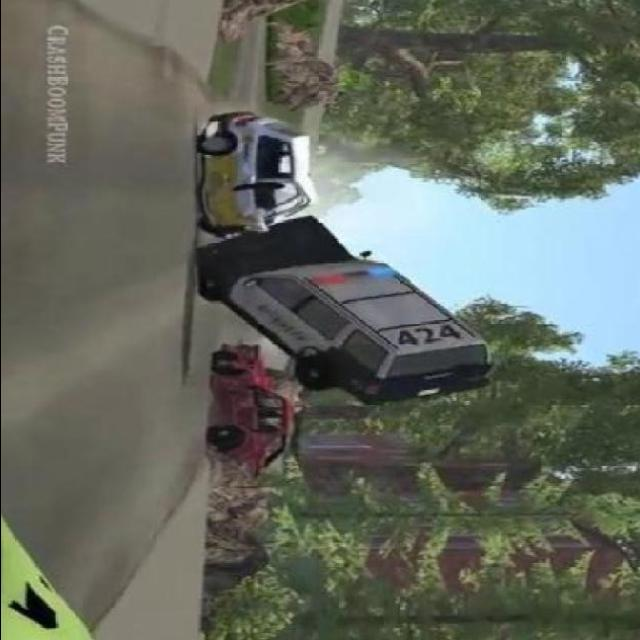accident: (196, 142, 304, 324)
